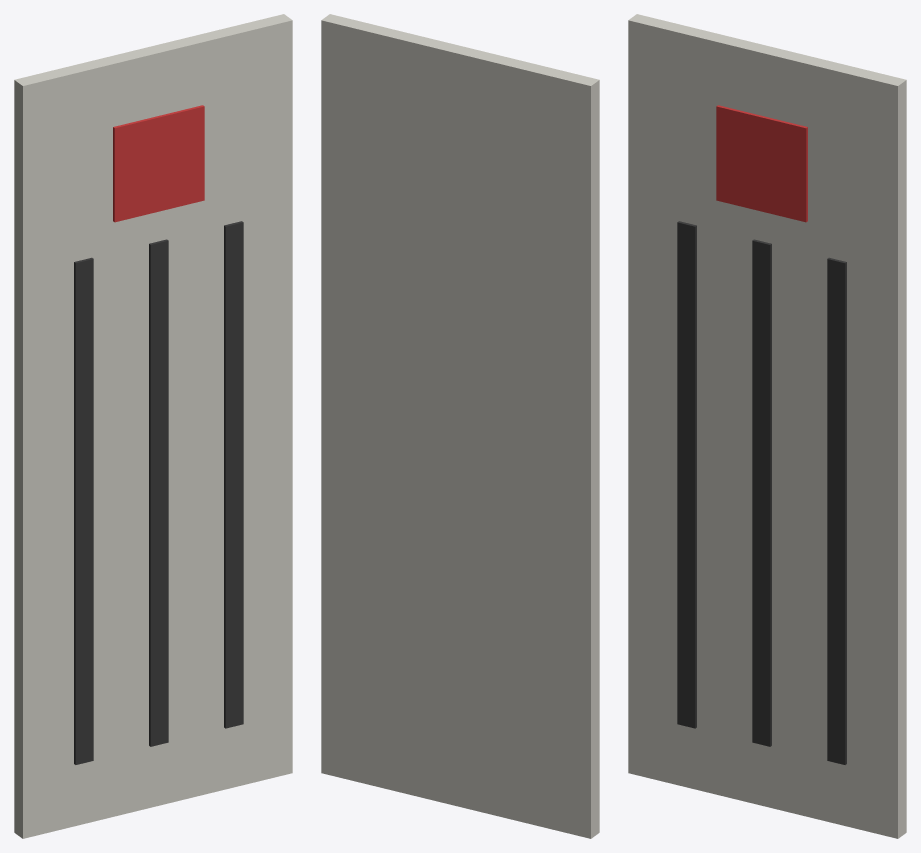
File: Ofuda.gltf
3 renders of one model, left to right at view 1: azimuth 30°, elevation 25°; view 2: azimuth 150°, elevation 25°; view 3: azimuth 330°, elevation 25°, orthographic.
Parts seen in each view (by area): view 1: Ofuda_Paper, Ofuda_Ink1, Ofuda_Ink2, Ofuda_Ink0, Ofuda_Seal; view 2: Ofuda_Paper; view 3: Ofuda_Paper, Ofuda_Ink0, Ofuda_Ink1, Ofuda_Ink2, Ofuda_Seal.
Part boxes in pixels (x1,y1,x2,y2): Ofuda_Paper: [14, 14, 292, 838]; Ofuda_Ink1: [149, 239, 168, 746]; Ofuda_Ink2: [224, 221, 243, 728]; Ofuda_Ink0: [74, 257, 93, 764]; Ofuda_Seal: [113, 105, 204, 222]; Ofuda_Paper: [321, 14, 599, 838]; Ofuda_Paper: [628, 14, 906, 838]; Ofuda_Ink0: [677, 221, 696, 728]; Ofuda_Ink1: [752, 239, 771, 746]; Ofuda_Ink2: [827, 257, 846, 764]; Ofuda_Seal: [716, 105, 807, 222].
Size of the model in its own units: 0.09 by 0.24 by 0.0061.
